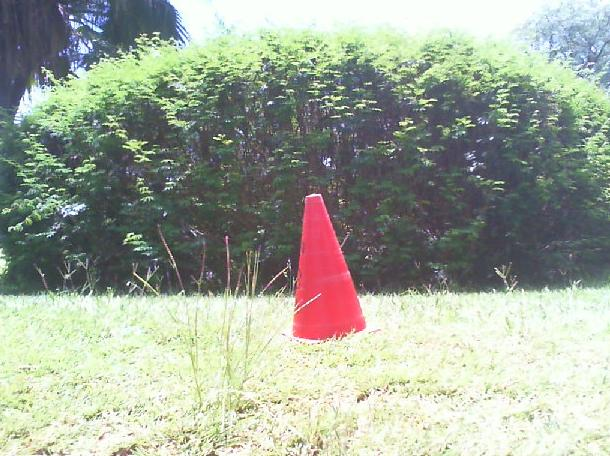0 cone: (281, 194, 382, 345)
